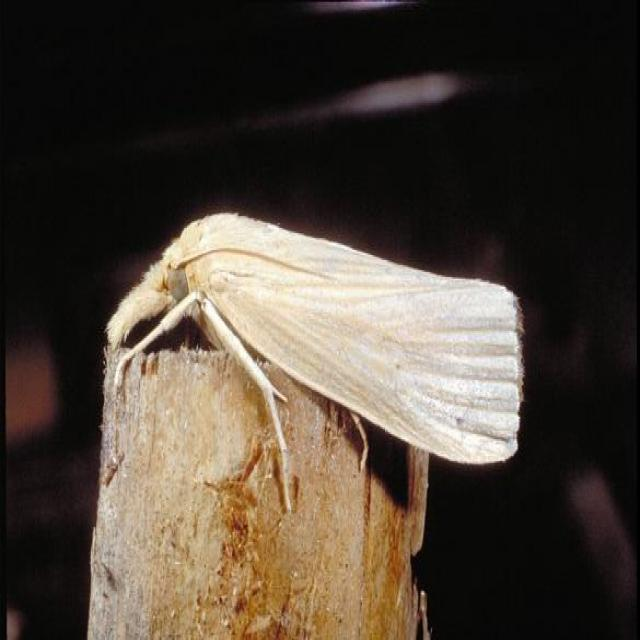cornborer-Adult-: (114, 195, 546, 537)
